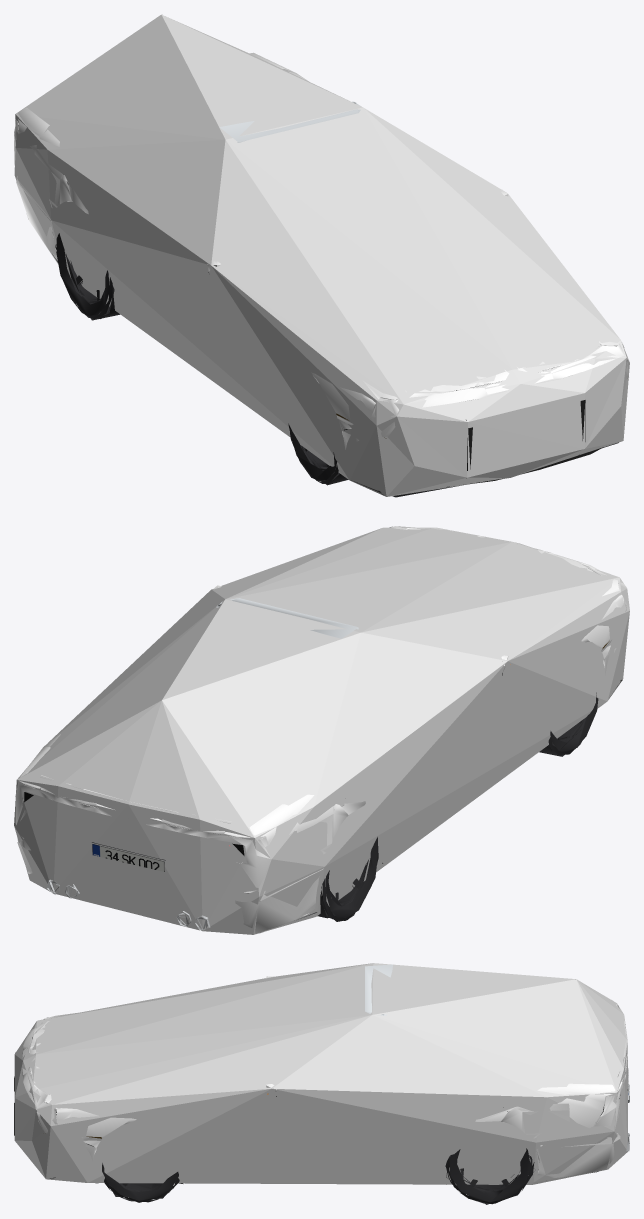
Rendered from police_interceptor_lod2.glb.
3 renders of one model, top to bottom at view 1: azimuth 30°, elevation 25°; view 2: azimuth 150°, elevation 25°; view 3: azimuth 270°, elevation 25°, orthographic. The views are drawn at different scales.
Visible parts, largest first — view 1: col_body, body, wheel_RR, trim, wheel_FR; view 2: col_body, body, wheel_RR, trim, wheel_FR, plate_rear; view 3: col_body, body, wheel_RL, wheel_FL, trim.
Boxes of the visible parts, bbox=[...] form: col_body: bbox=[14, 14, 629, 496]; body: bbox=[14, 52, 628, 449]; wheel_RR: bbox=[56, 233, 120, 320]; trim: bbox=[52, 101, 618, 497]; wheel_FR: bbox=[288, 423, 348, 485]; col_body: bbox=[14, 527, 629, 934]; body: bbox=[15, 526, 627, 933]; wheel_RR: bbox=[317, 837, 378, 921]; trim: bbox=[24, 598, 622, 919]; wheel_FR: bbox=[539, 692, 598, 756]; plate_rear: bbox=[92, 844, 164, 871]; col_body: bbox=[14, 963, 627, 1184]; body: bbox=[22, 976, 627, 1177]; wheel_RL: bbox=[445, 1148, 534, 1204]; wheel_FL: bbox=[102, 1163, 179, 1202]; trim: bbox=[14, 964, 627, 1183].
Size of the model in its own units: 2.12 by 1.56 by 4.93.
Materials: 11 (1 with a texture image).
